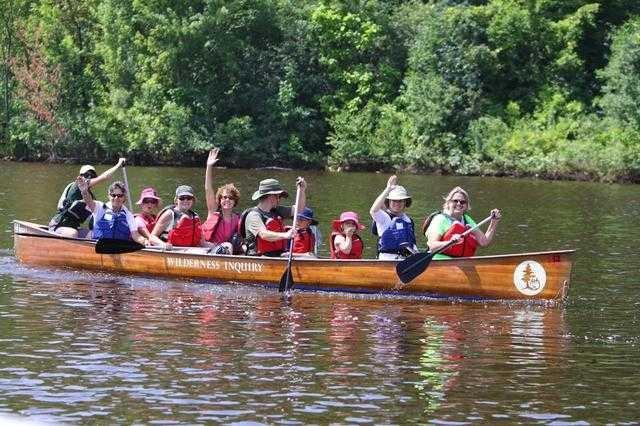kayak: (3, 229, 577, 297)
